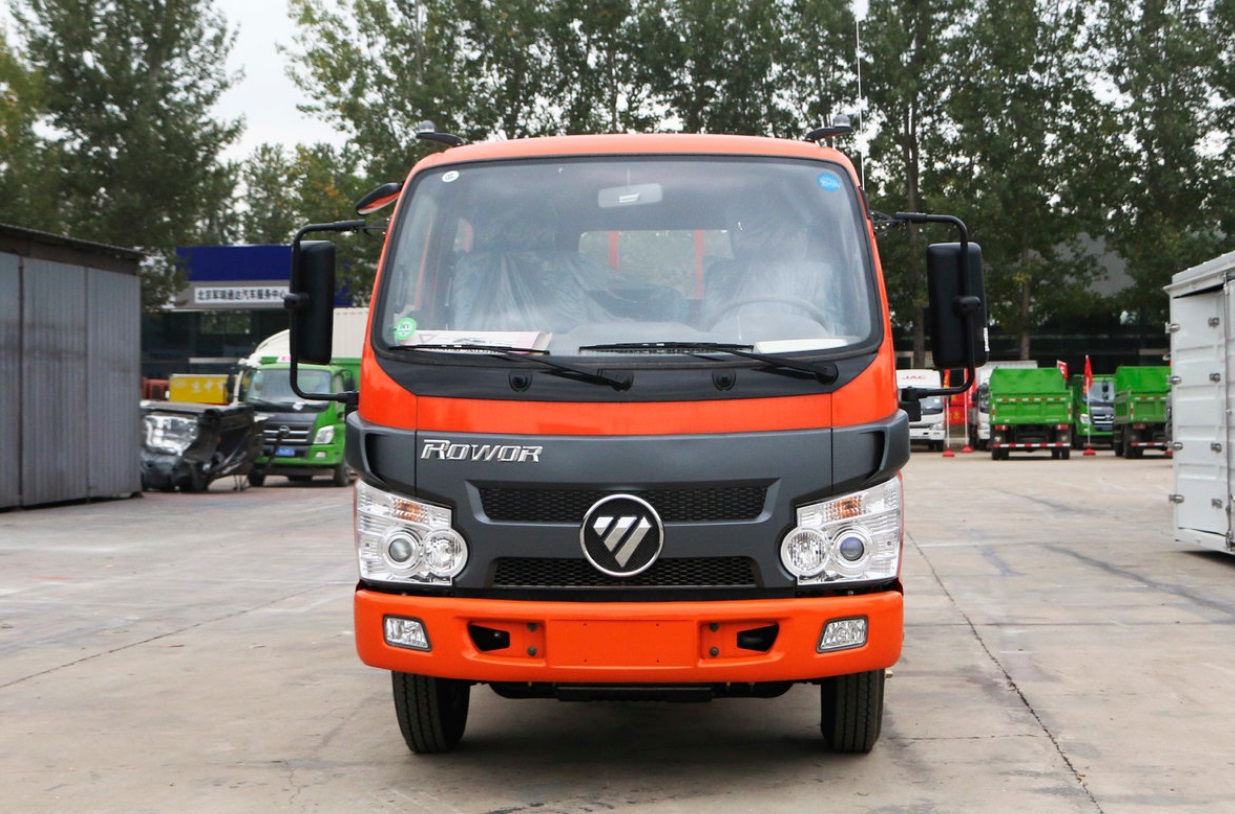truck: (279, 121, 1000, 784)
